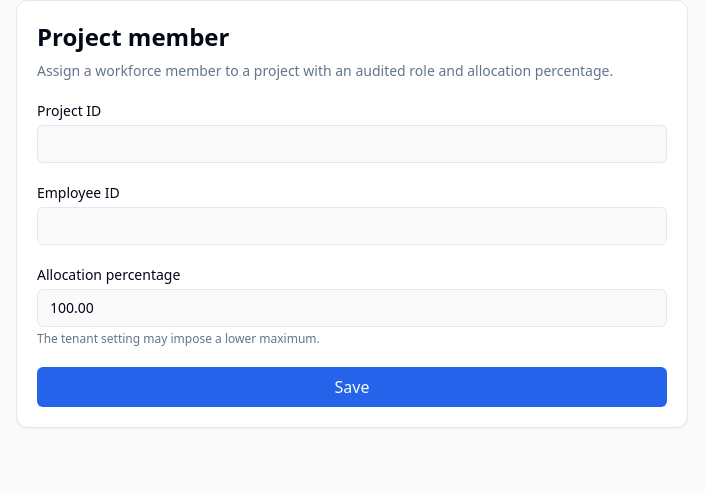
Test case: project management forms › shows governed member validation when saving empty identifiers
Click the button "Save" at x=352, y=387, box [37,367,667,407]
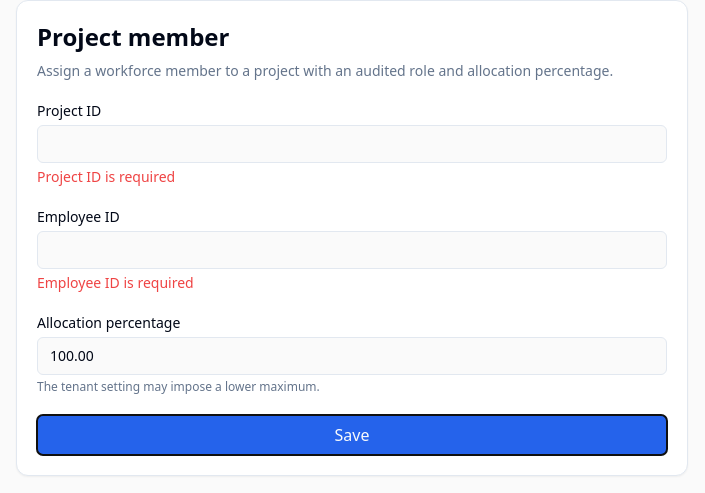
Now the text "Project ID is required" is shown, box [37,167,175,186]
Now the text "Employee ID is required" is shown, box [37,273,194,292]
